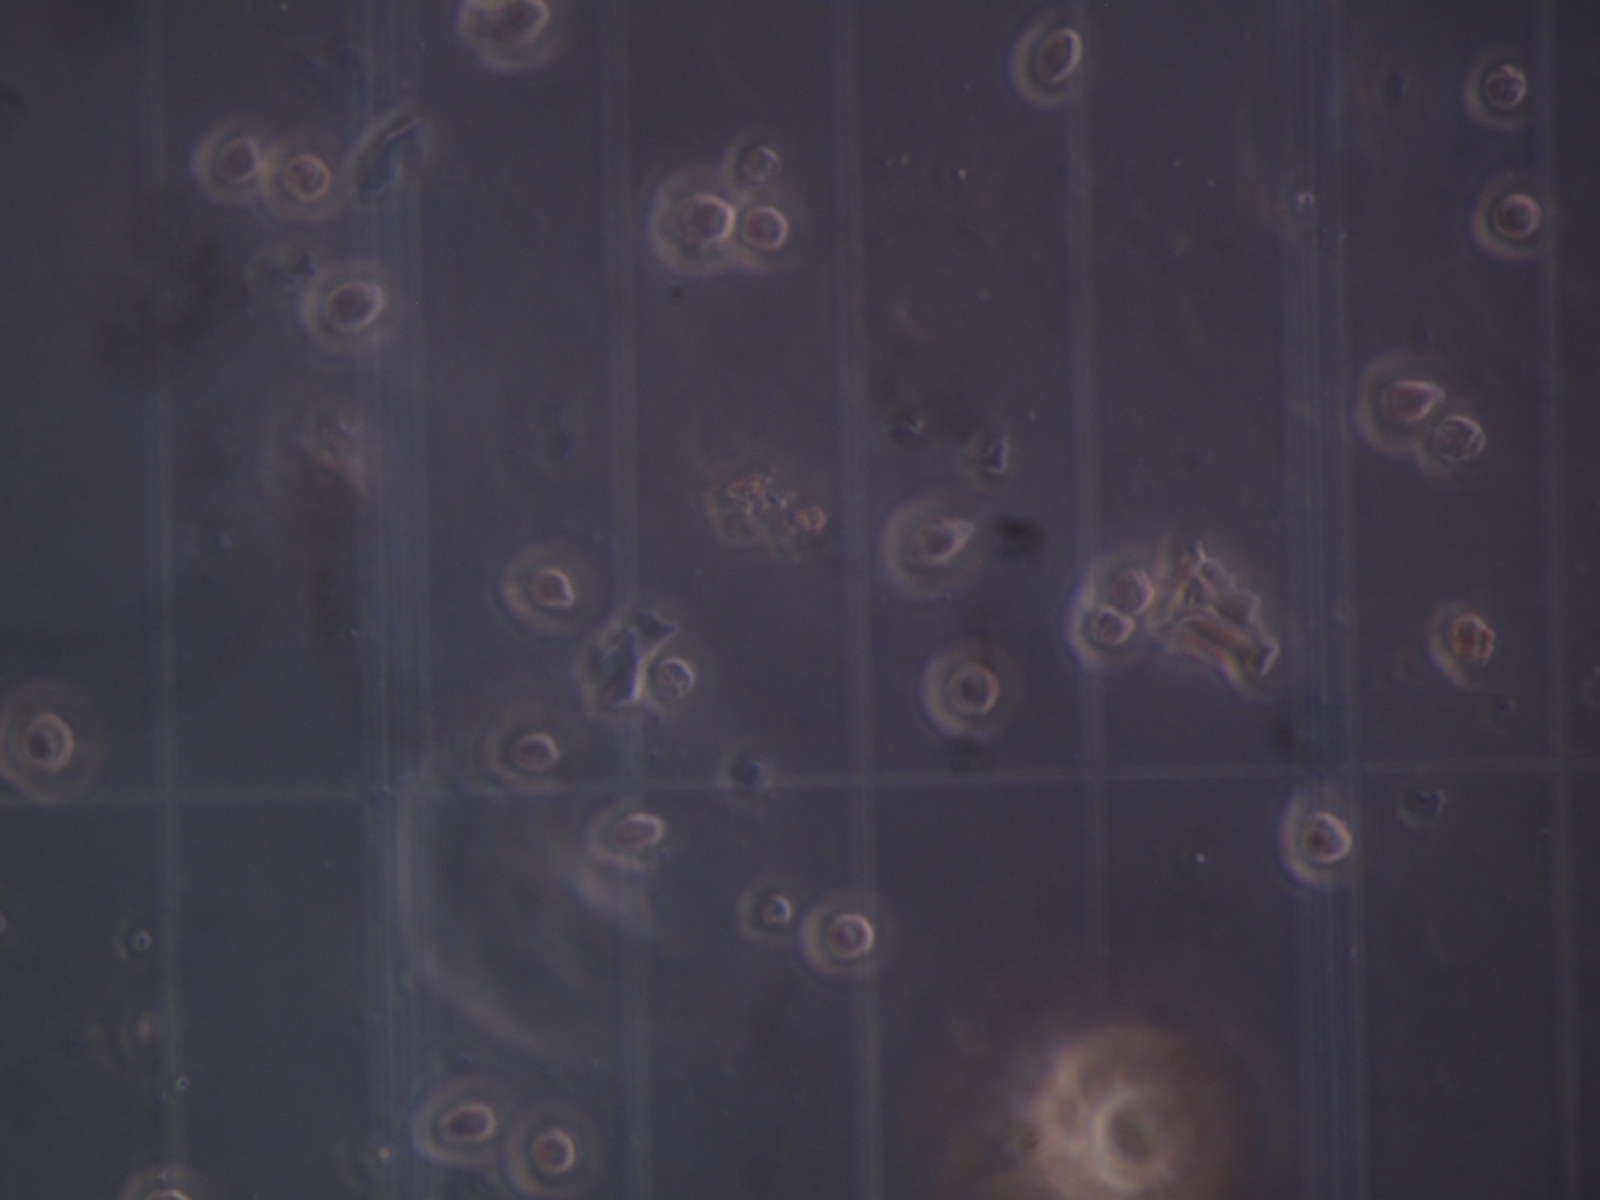hemo: (1, 678, 107, 804), (643, 160, 740, 277), (299, 255, 404, 361), (921, 637, 1026, 740), (1354, 350, 1455, 458), (877, 497, 970, 603), (803, 886, 900, 981), (481, 695, 569, 797), (501, 1095, 587, 1200), (260, 124, 349, 222), (496, 536, 574, 640), (1469, 170, 1553, 263), (455, 1, 561, 73), (1007, 13, 1085, 110), (190, 115, 272, 207), (1280, 792, 1353, 892), (409, 1082, 499, 1162), (1067, 597, 1157, 676), (740, 184, 814, 276), (581, 794, 666, 867), (1464, 42, 1528, 134), (1430, 603, 1495, 691), (1086, 545, 1163, 616), (1415, 410, 1488, 483), (736, 874, 800, 948), (722, 129, 784, 205), (641, 647, 697, 718)
